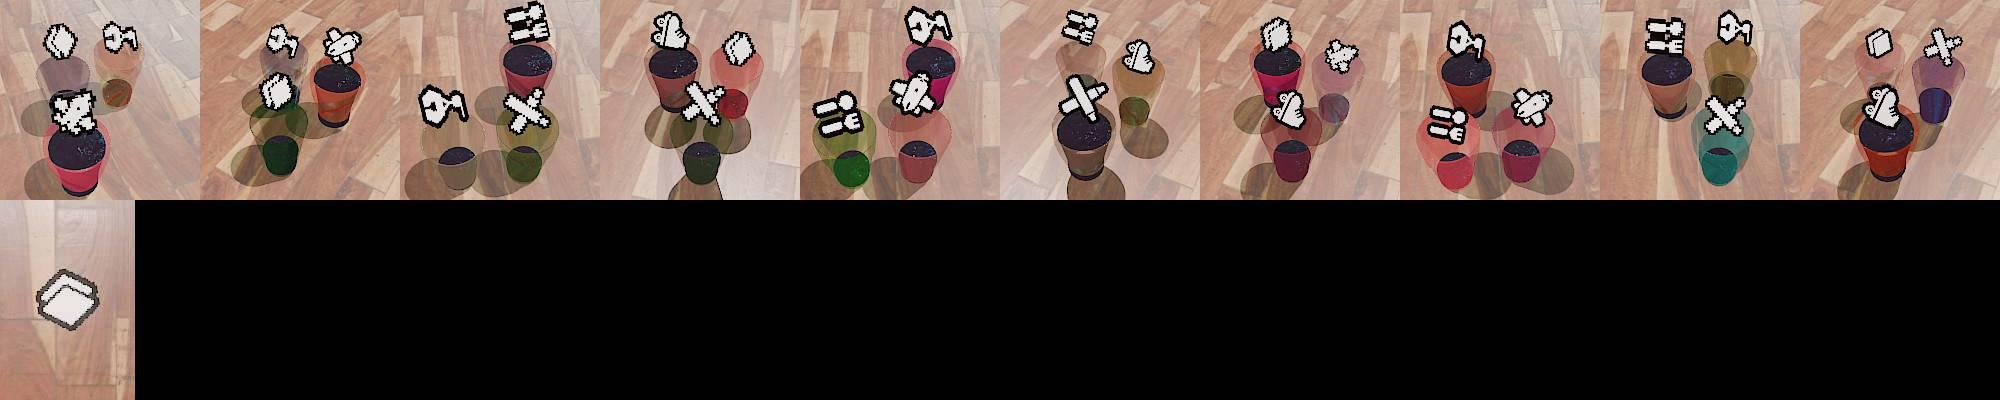icon: (34, 268, 101, 331), (1056, 73, 1110, 127), (811, 87, 865, 136), (48, 88, 99, 134), (418, 84, 469, 129), (681, 79, 727, 127), (503, 88, 551, 134), (889, 73, 937, 116), (504, 1, 550, 45), (904, 6, 953, 46), (258, 69, 300, 112), (1703, 94, 1746, 136), (651, 10, 693, 52), (1511, 85, 1554, 127), (1426, 103, 1468, 145), (1644, 15, 1686, 57), (321, 25, 364, 66), (1446, 20, 1486, 60), (1865, 84, 1902, 126), (1062, 9, 1101, 47), (1922, 28, 1962, 65), (1270, 89, 1307, 129), (1716, 10, 1753, 47), (1323, 38, 1360, 74), (721, 31, 758, 66), (265, 23, 301, 60), (45, 22, 79, 60), (1259, 17, 1293, 54), (102, 20, 140, 54), (1122, 38, 1156, 74), (1865, 27, 1894, 59)
